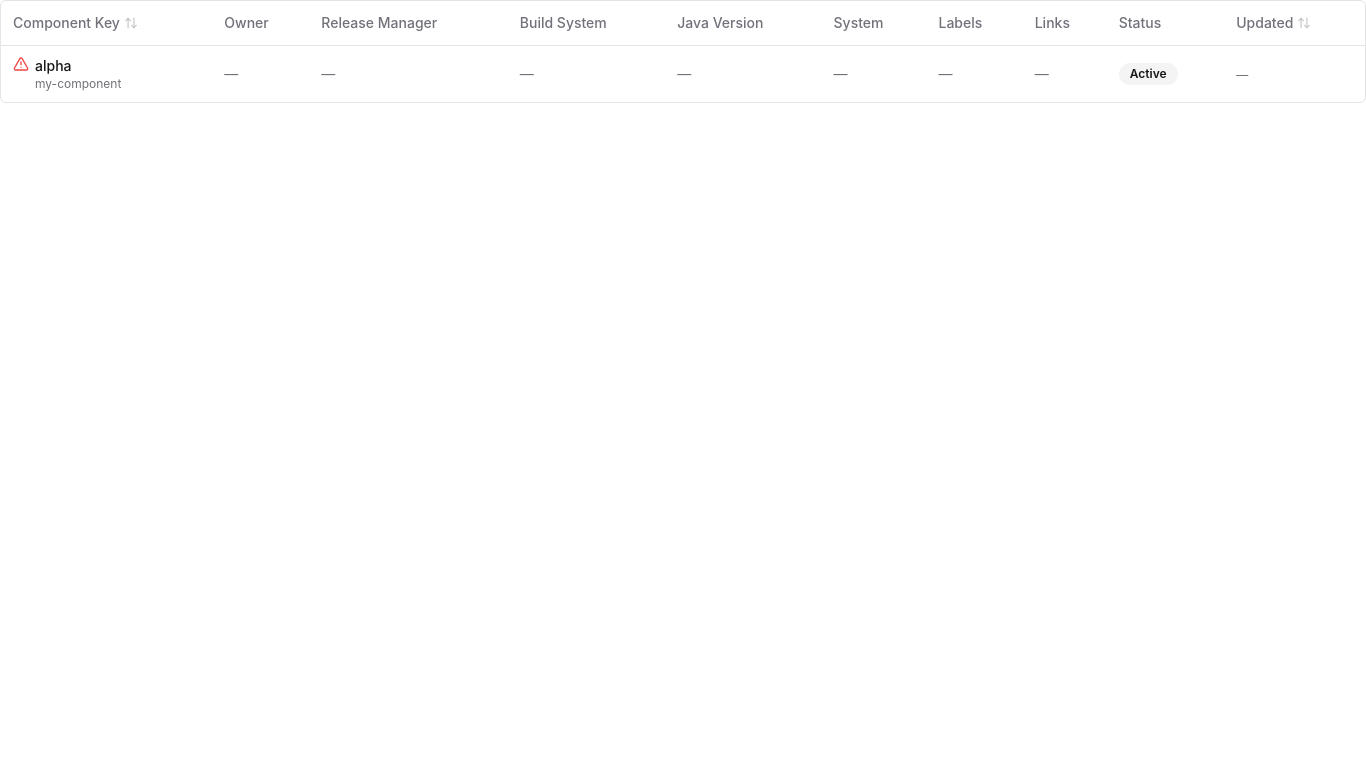
ComponentTable — inline validation triangle › clicking the triangle opens the full-list dialog showing the versions
Click the button named "2 validation problems": (21, 64) [13,56,29,72]
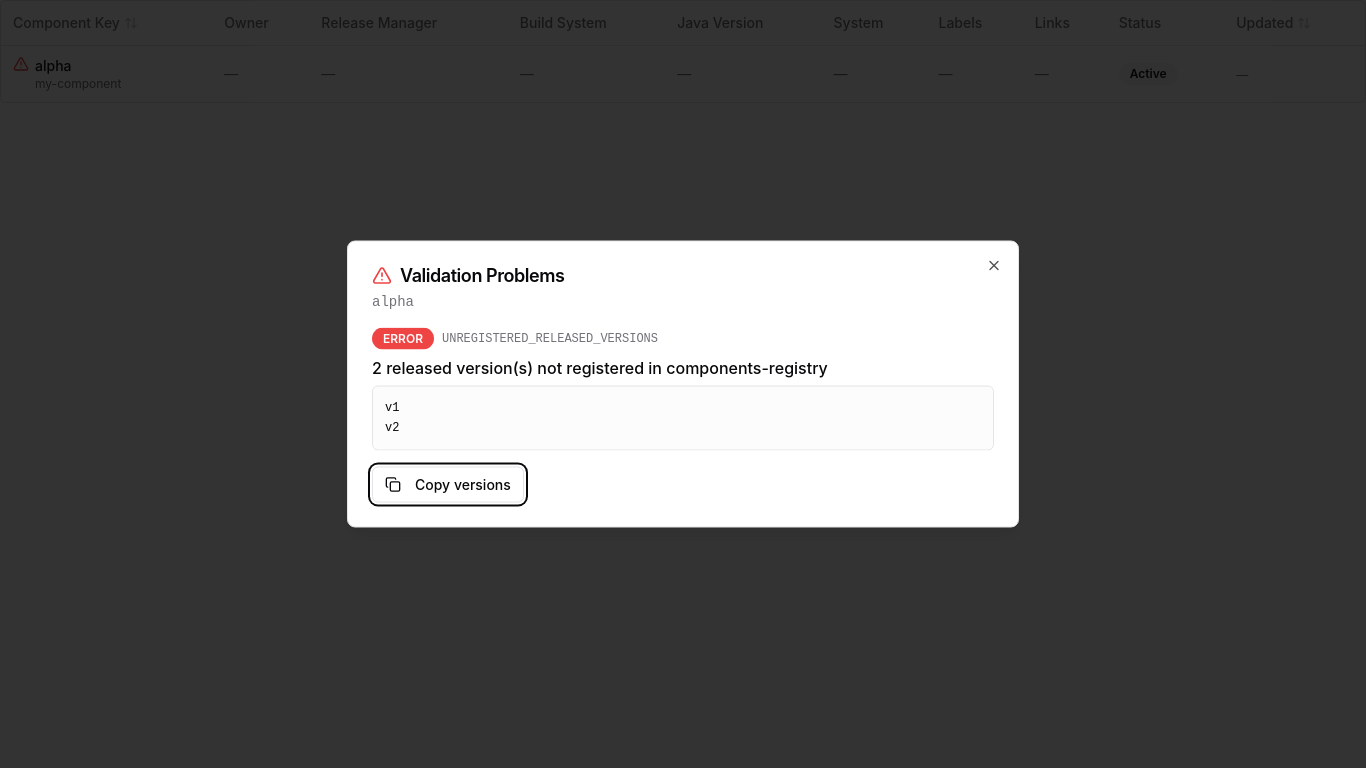
Expected: the heading "Validation Problems" is shown, [372,264,564,286]
Expected: the text "v1" is shown, [385,400,399,414]
Expected: the text "v2" is shown, [385,420,399,434]
